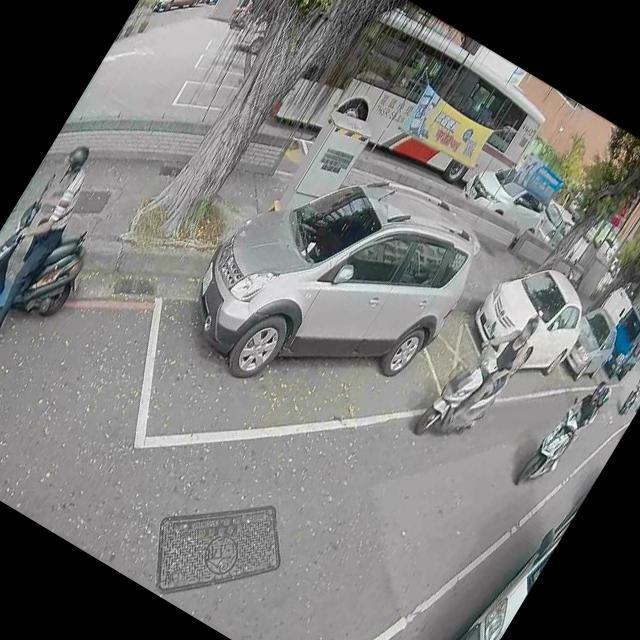person: (0, 133, 112, 364), (436, 298, 546, 439), (535, 366, 615, 476), (544, 374, 616, 473), (233, 0, 258, 24), (631, 368, 640, 398)
